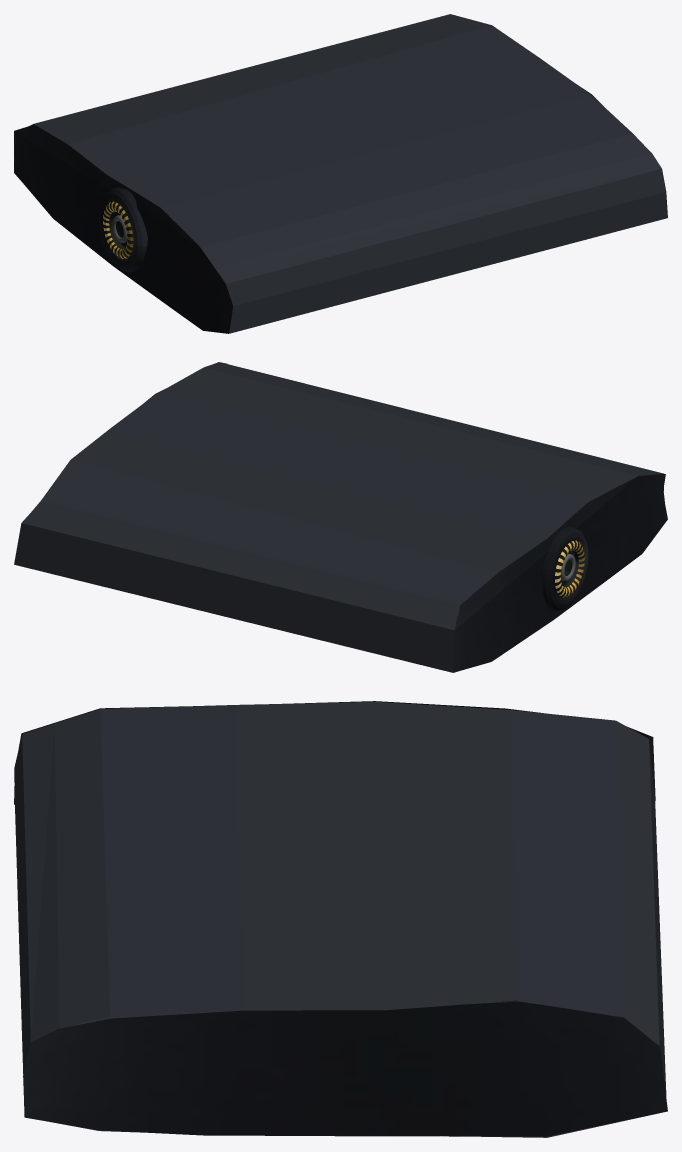
The model's file is Beamer_Sony_VW1100.glb.
The picture shows the model from 3 angles, top to bottom: view 1: azimuth 30°, elevation 25°; view 2: azimuth 150°, elevation 25°; view 3: azimuth 270°, elevation 25°; orthographic projection. The views are drawn at different scales.
Visible parts, largest first — view 1: Torus.003, Torus.002, Torus, Torus.006; view 2: Torus.003, Torus.002, Torus, Torus.006; view 3: Torus.003, Torus.001, Torus.002.
Boxes of the visible parts, box(x1,y1,x2,y2) form: Torus.003: box(14, 14, 667, 333); Torus.002: box(14, 124, 232, 333); Torus: box(99, 187, 147, 272); Torus.006: box(103, 201, 133, 259); Torus.003: box(14, 362, 664, 672); Torus.002: box(453, 474, 667, 672); Torus: box(541, 527, 588, 610); Torus.006: box(554, 540, 584, 597); Torus.003: box(14, 701, 666, 1137); Torus.001: box(23, 1000, 667, 1136); Torus.002: box(14, 701, 655, 804).
Bounding box in the file's own units: 0.7375 × 0.1499 × 0.6238.
4 materials, 4 textured.
